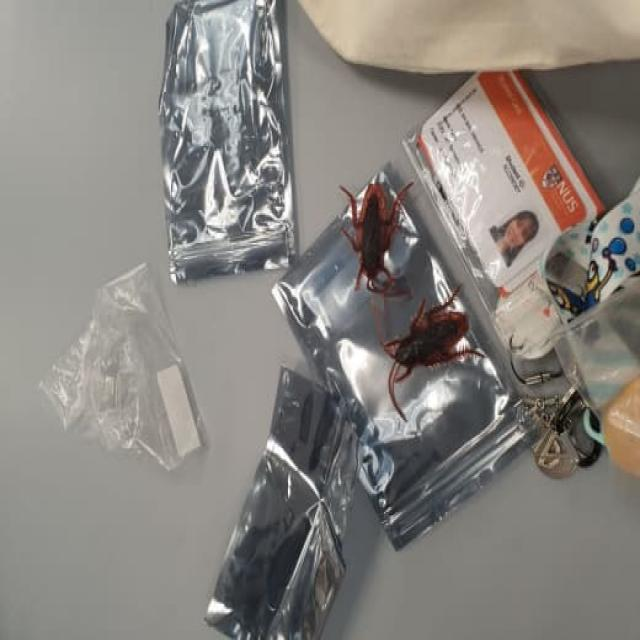Cockroach: (369, 284, 480, 420), (334, 172, 418, 314)
